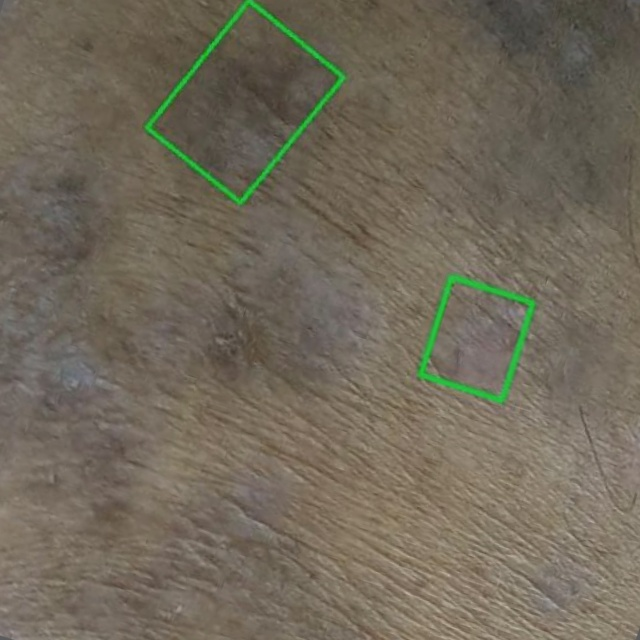Contact Dermatitis: (147, 1, 343, 204), (420, 277, 532, 400)
